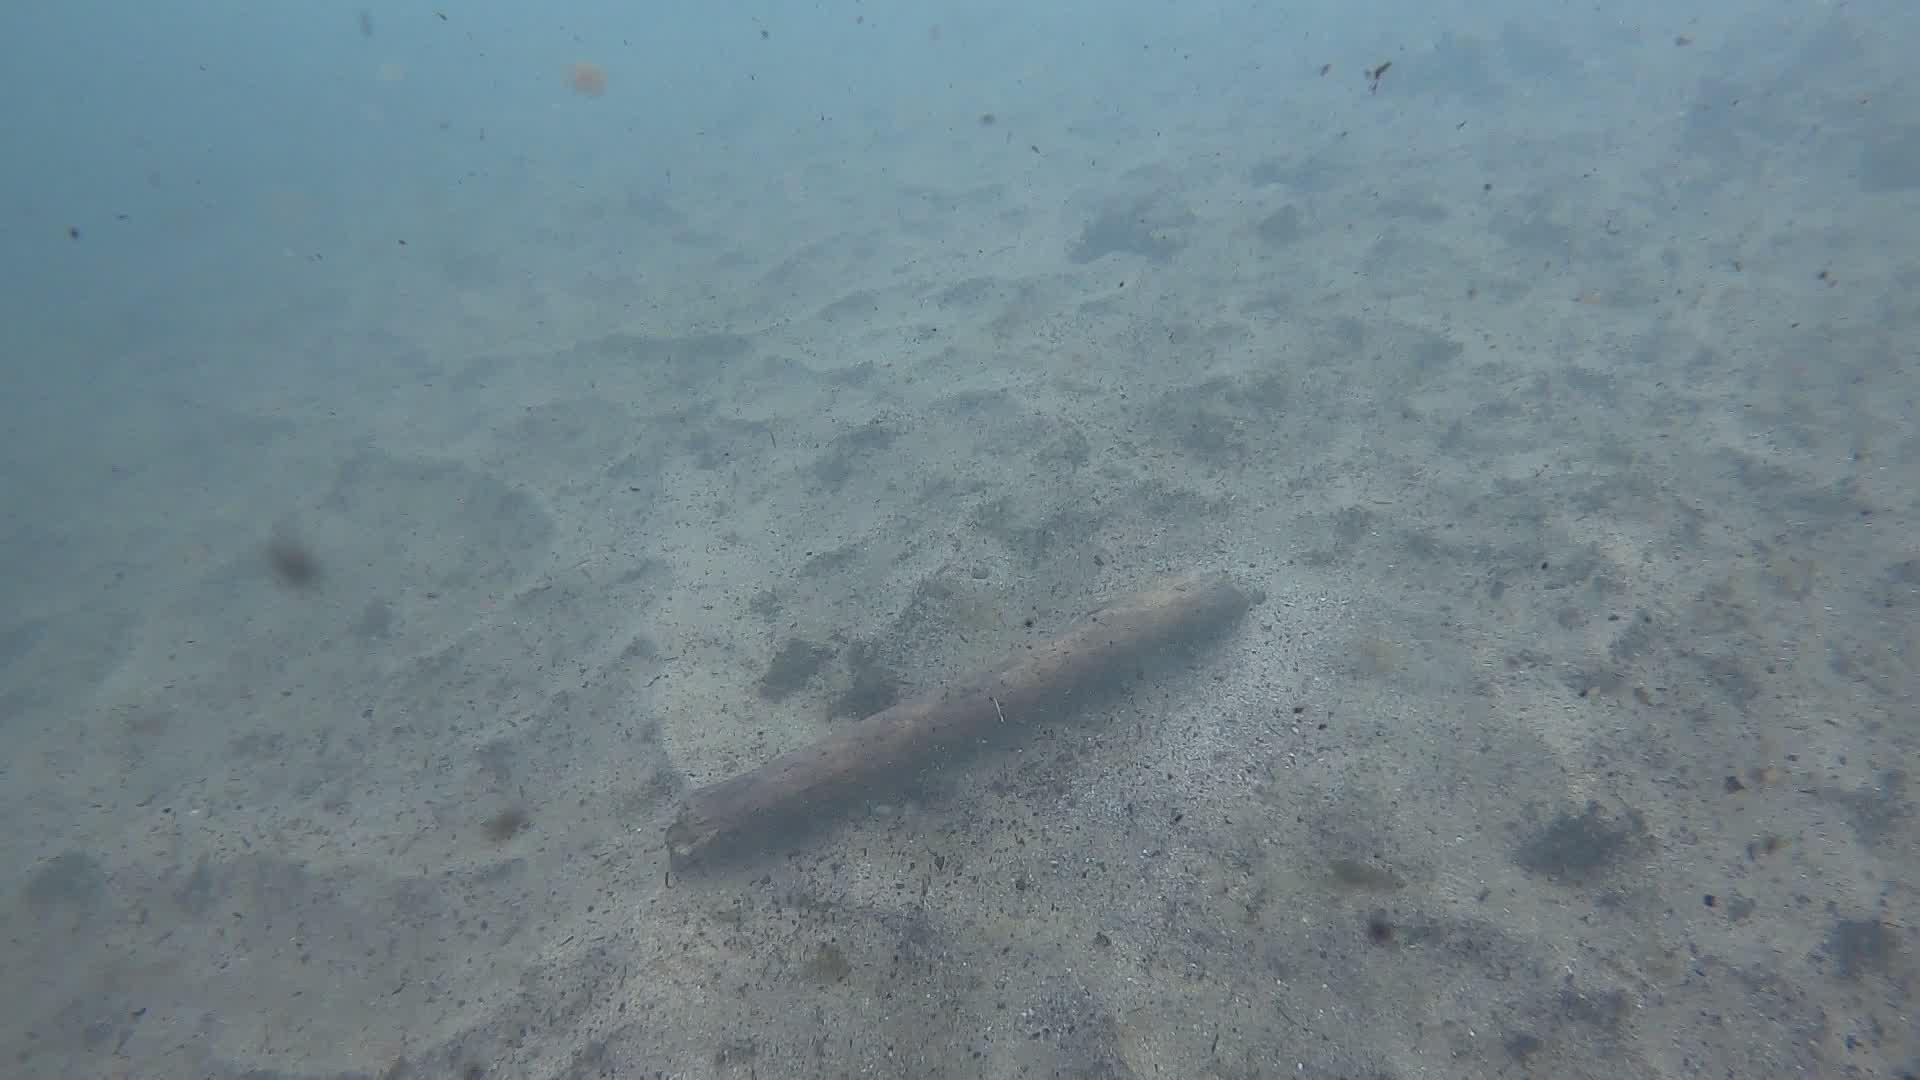wood: (661, 566, 1250, 855)
